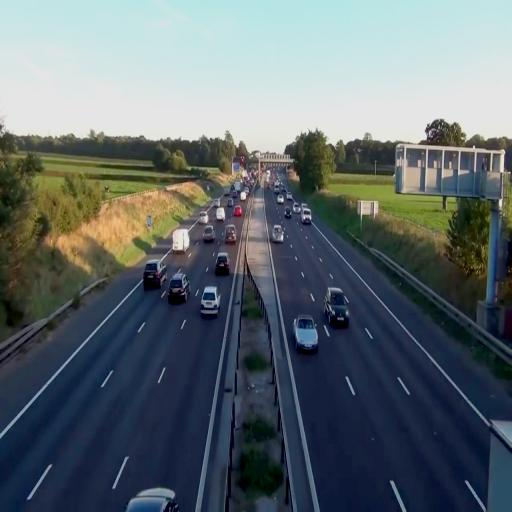vehicle: (125, 485, 177, 512), (324, 287, 350, 327), (294, 315, 318, 353), (169, 271, 189, 303), (200, 286, 220, 316), (142, 260, 162, 290), (214, 251, 230, 275), (202, 226, 217, 243), (225, 224, 237, 244), (272, 224, 284, 242), (301, 207, 312, 225)
